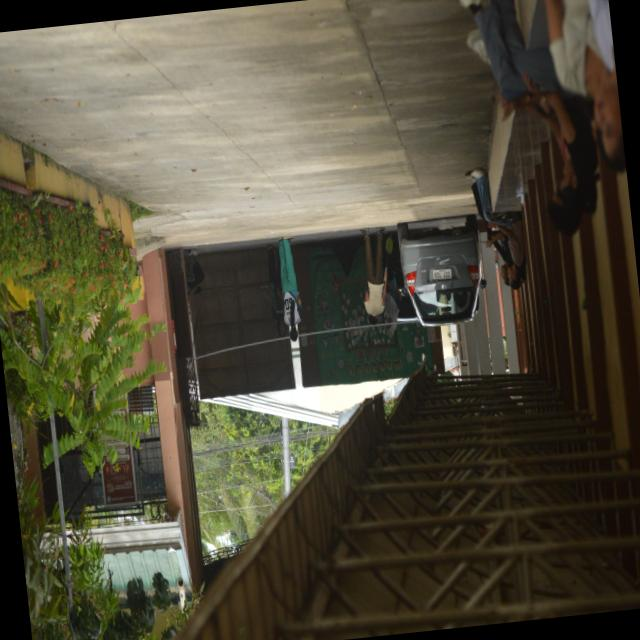person: (460, 0, 597, 212), (545, 0, 612, 163), (466, 168, 526, 288), (588, 0, 625, 170), (361, 226, 387, 324), (279, 236, 302, 340), (267, 244, 286, 336), (486, 224, 513, 284)
